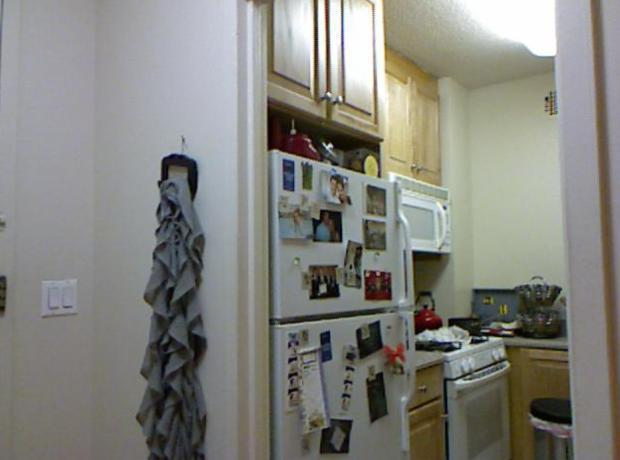Bote de Basura: (529, 395, 570, 455)
Electrodomestico: (269, 151, 409, 455), (444, 331, 512, 459)
